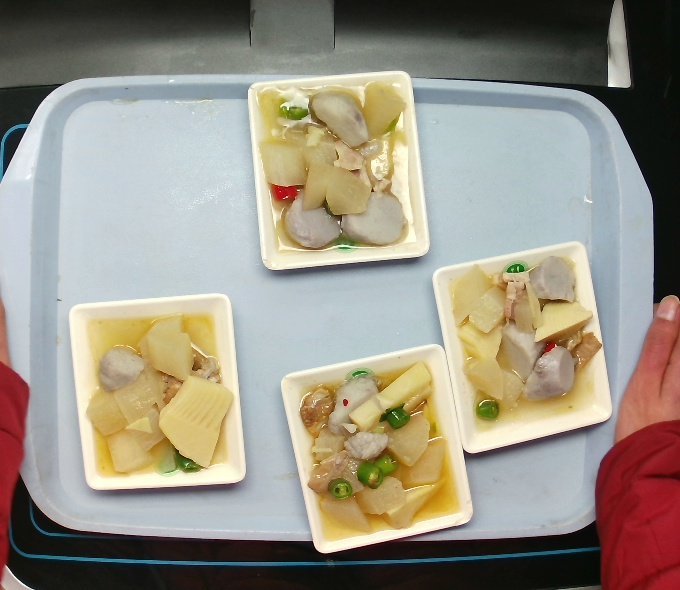wcq-YangYuChunSunDunLuoBo: (293, 361, 467, 538), (442, 252, 602, 430), (83, 305, 243, 483), (256, 83, 416, 261)
